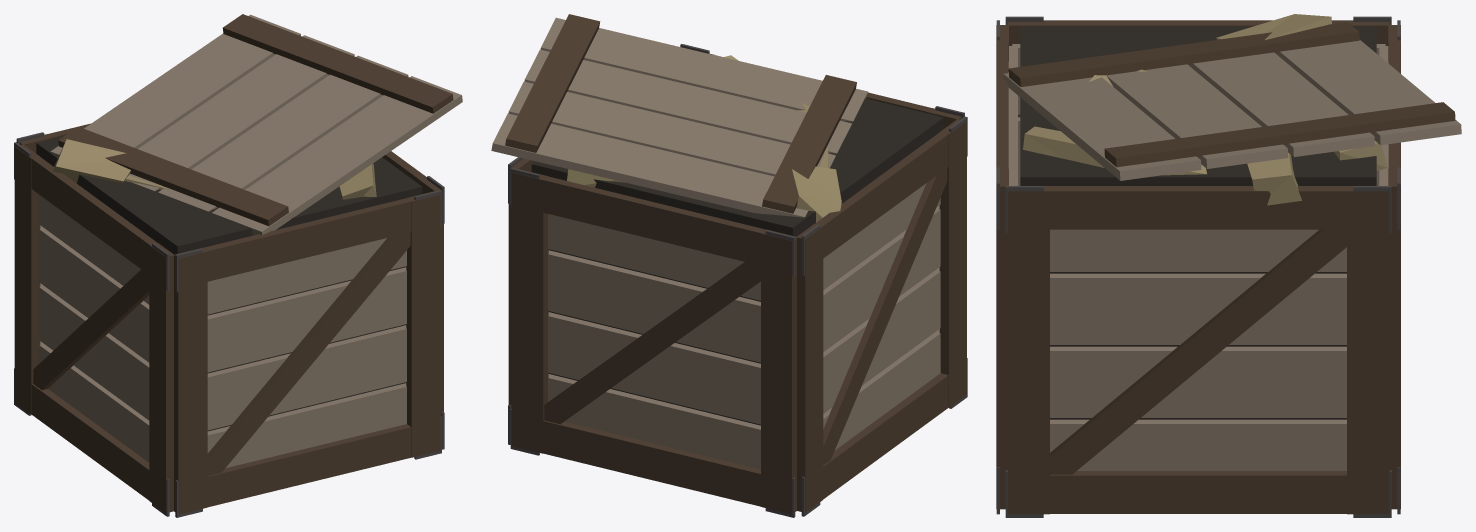
File: crate.glb
The picture shows the model from 3 angles, left to right: view 1: azimuth 30°, elevation 25°; view 2: azimuth 150°, elevation 25°; view 3: azimuth 270°, elevation 25°; orthographic projection. The views are drawn at different scales.
Parts seen in each view (by area): view 1: crate; view 2: crate; view 3: crate.
Boxes of the visible parts, x1,y1,x2,y2 form: crate: (14, 14, 462, 517); crate: (491, 14, 967, 517); crate: (996, 14, 1461, 517).
Size of the model in its own units: 1.17 by 1.02 by 1.1.
